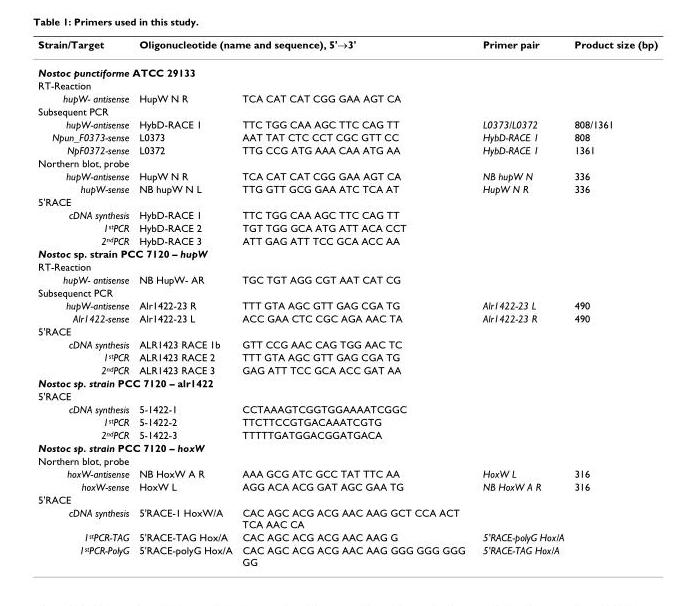table: (37, 37, 657, 567)
table column: (236, 37, 473, 567), (133, 37, 236, 567), (37, 37, 133, 567), (473, 37, 568, 567), (568, 37, 657, 567)
table column header: (37, 37, 657, 91)
table projected row header: (37, 440, 657, 454), (37, 104, 657, 117), (37, 156, 657, 169), (37, 195, 657, 208), (37, 246, 657, 259), (37, 259, 657, 272), (37, 285, 657, 298), (37, 324, 657, 337), (37, 376, 657, 389), (37, 389, 657, 402), (37, 492, 657, 505), (37, 454, 657, 466)
table row: (37, 505, 657, 530), (37, 543, 657, 567), (37, 37, 657, 58), (37, 58, 657, 78), (37, 440, 657, 454), (37, 78, 657, 91), (37, 91, 657, 104), (37, 104, 657, 117), (37, 117, 657, 130), (37, 130, 657, 143), (37, 143, 657, 156), (37, 156, 657, 169), (37, 169, 657, 182), (37, 182, 657, 195), (37, 195, 657, 208), (37, 208, 657, 221), (37, 221, 657, 234), (37, 246, 657, 259), (37, 259, 657, 272), (37, 272, 657, 285), (37, 285, 657, 298), (37, 298, 657, 311), (37, 311, 657, 324), (37, 324, 657, 337), (37, 337, 657, 350), (37, 350, 657, 363), (37, 363, 657, 376), (37, 376, 657, 389), (37, 389, 657, 402), (37, 402, 657, 415), (37, 415, 657, 428), (37, 466, 657, 479), (37, 479, 657, 492), (37, 492, 657, 505), (37, 530, 657, 543), (37, 234, 657, 246), (37, 428, 657, 440), (37, 454, 657, 466)
table spanning cell: (37, 58, 657, 78), (133, 37, 473, 58)
